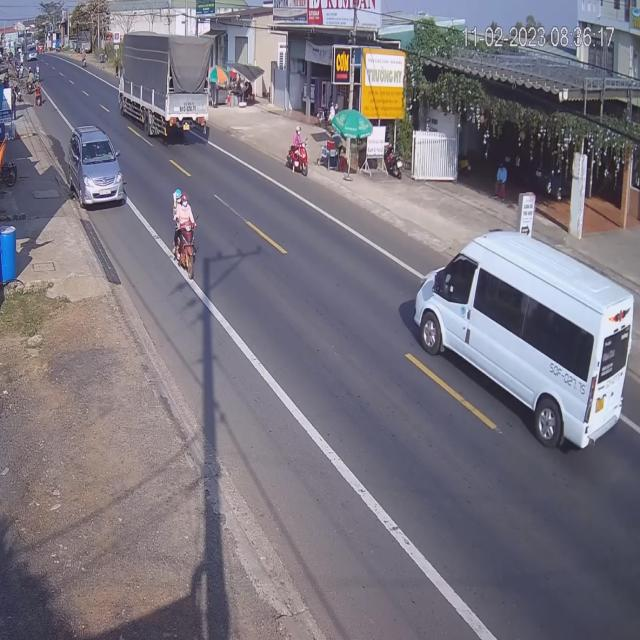bus: (410, 224, 630, 450)
car: (68, 125, 124, 208)
motorbike: (174, 189, 202, 281), (286, 129, 308, 176)
truck: (118, 30, 212, 142)
